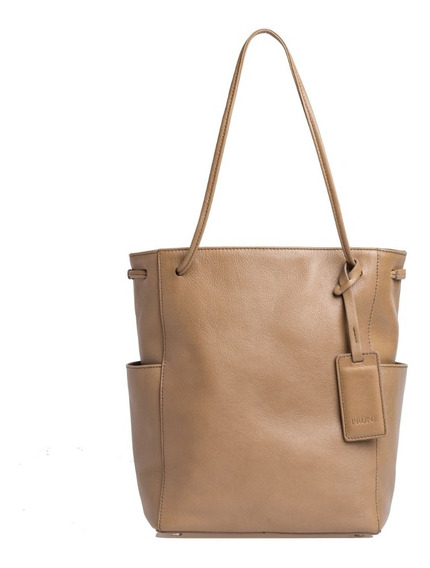cartera: (90, 22, 419, 545)
cuero: (228, 310, 305, 387)
